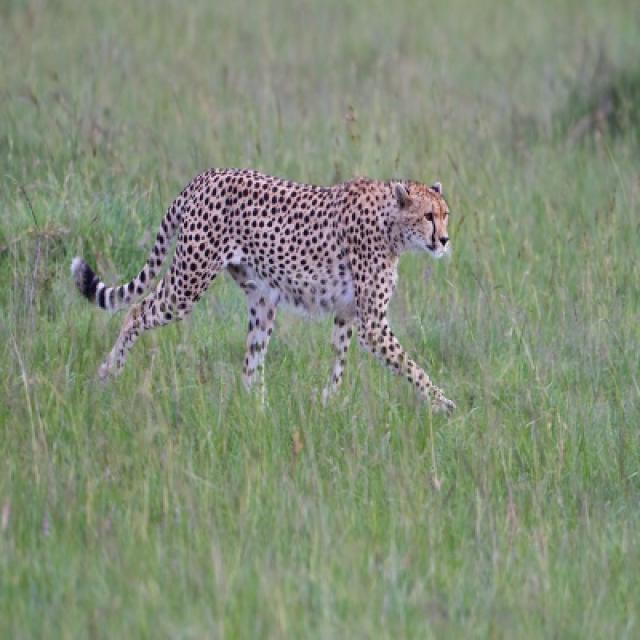Cheetah: (77, 166, 455, 415)
